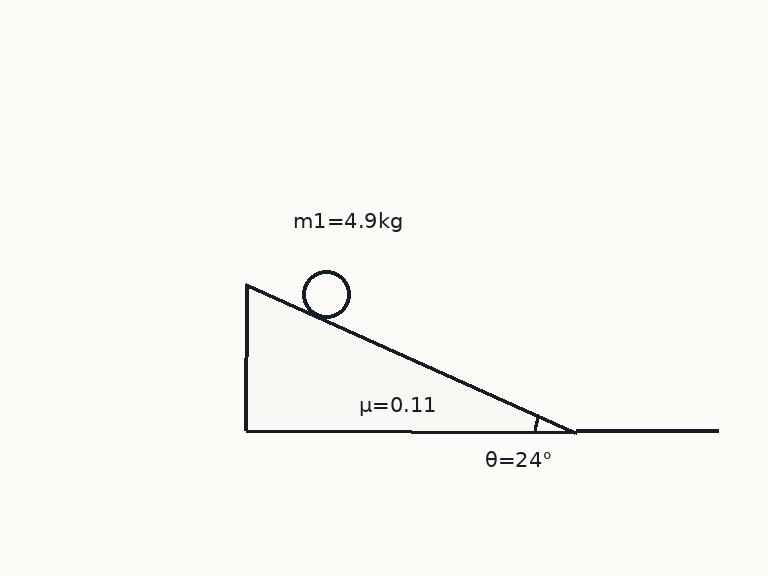ball: (300, 268, 352, 320)
ramp: (243, 282, 577, 433)
